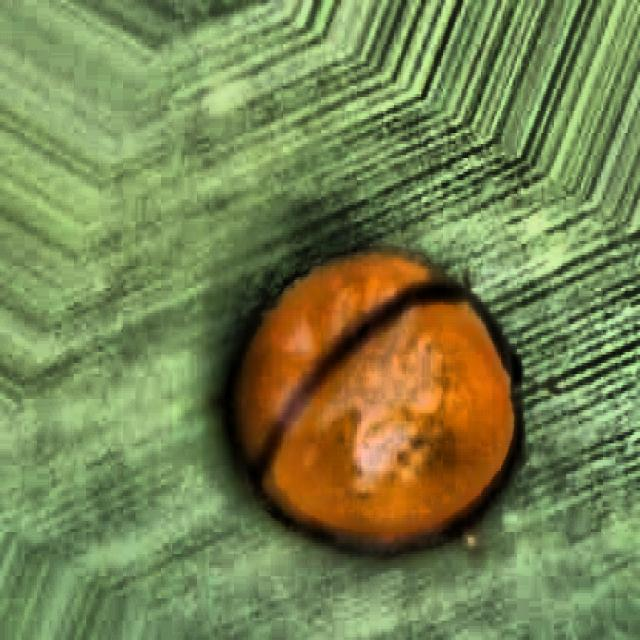Ladybug: (165, 158, 565, 618)
